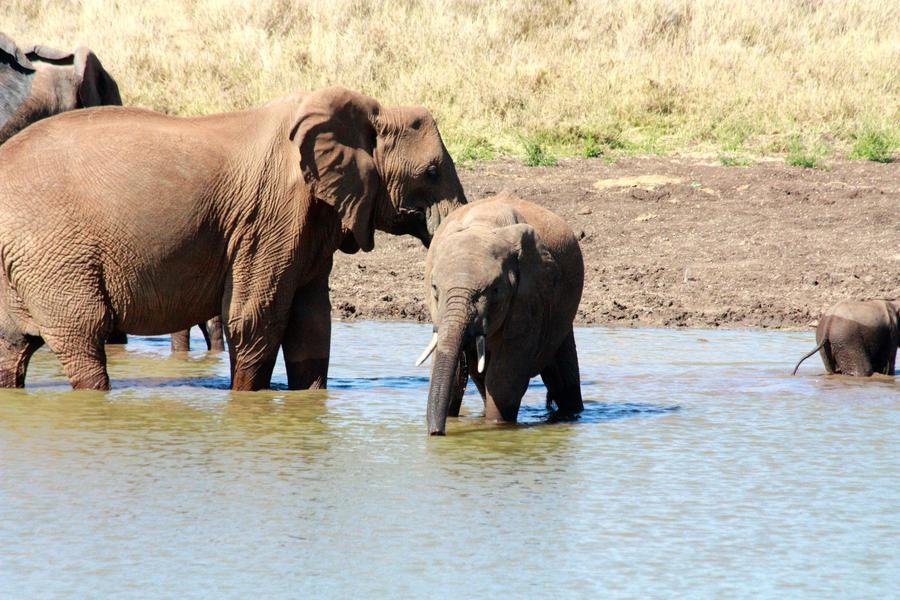elephant: (420, 224, 564, 360)
